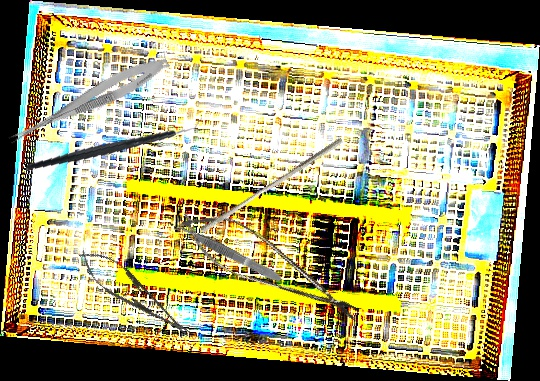Chopper: (26, 96, 202, 191)
Micro Scissor: (170, 198, 369, 334), (5, 49, 173, 154)
Needle Holder: (71, 240, 199, 348)
Pusher: (199, 132, 344, 238)
Tissue Forceps: (174, 219, 284, 286)
